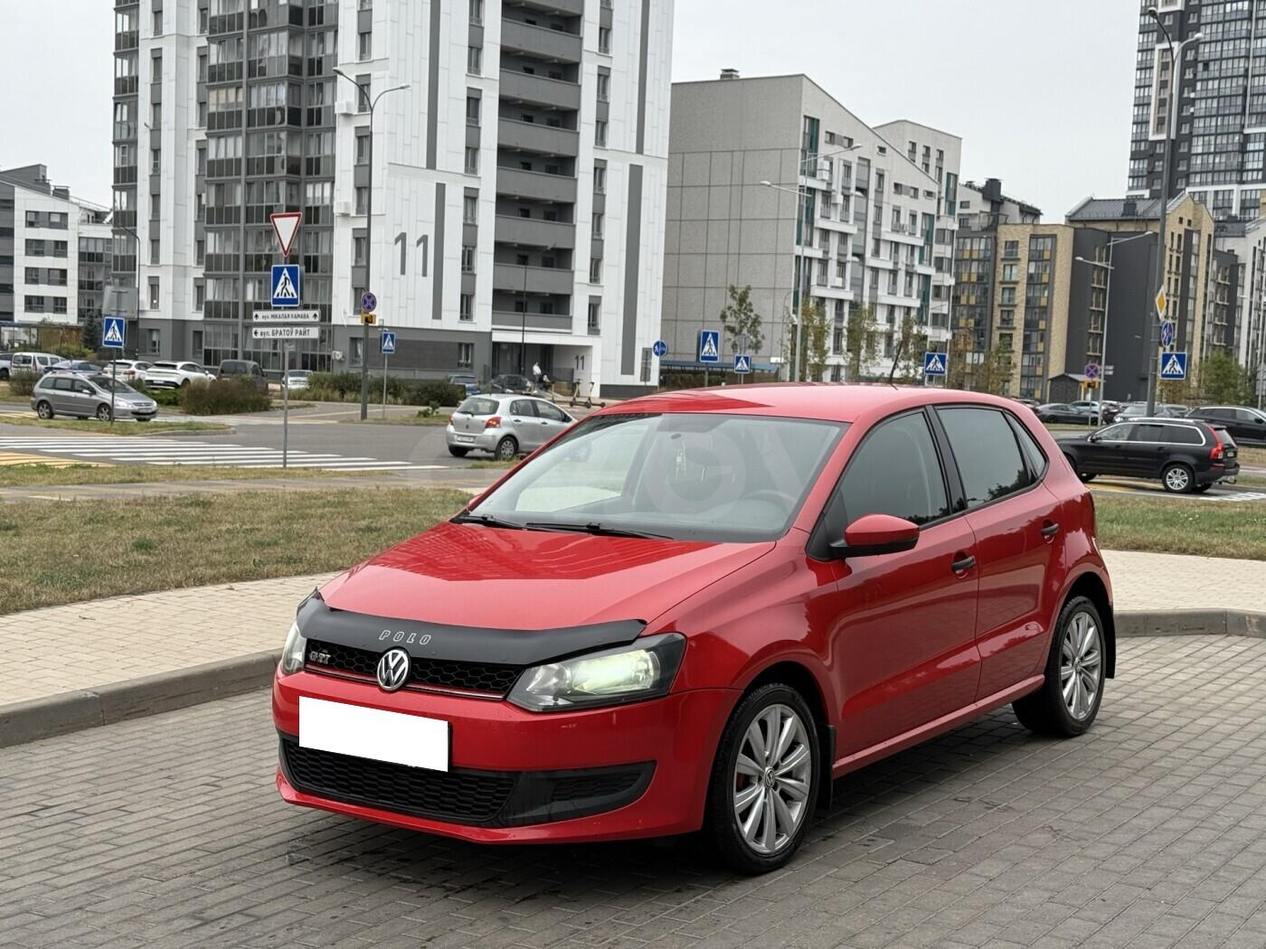Polo_2009-2015: (263, 387, 1118, 882)
